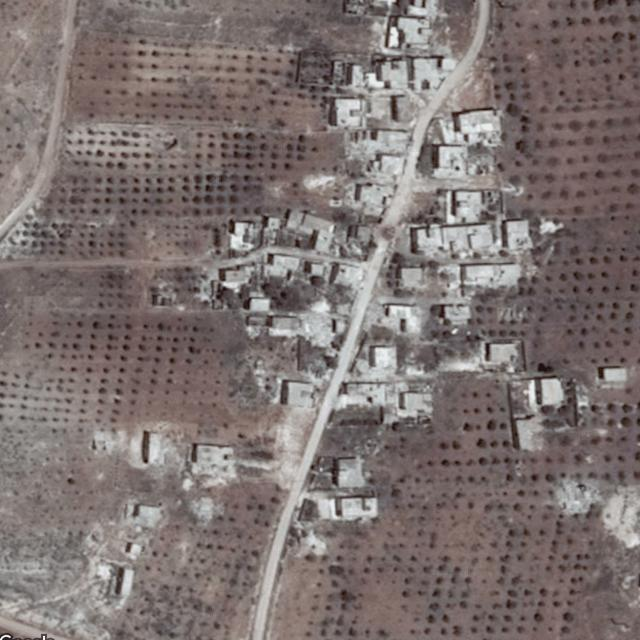damaged_building: (185, 438, 238, 488), (300, 303, 334, 379), (555, 478, 601, 513), (355, 339, 398, 375), (187, 494, 223, 524)
